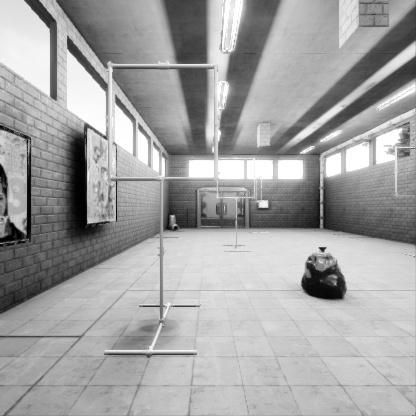gate: (114, 239, 224, 349), (218, 219, 257, 258), (398, 222, 416, 271), (256, 214, 262, 241)
